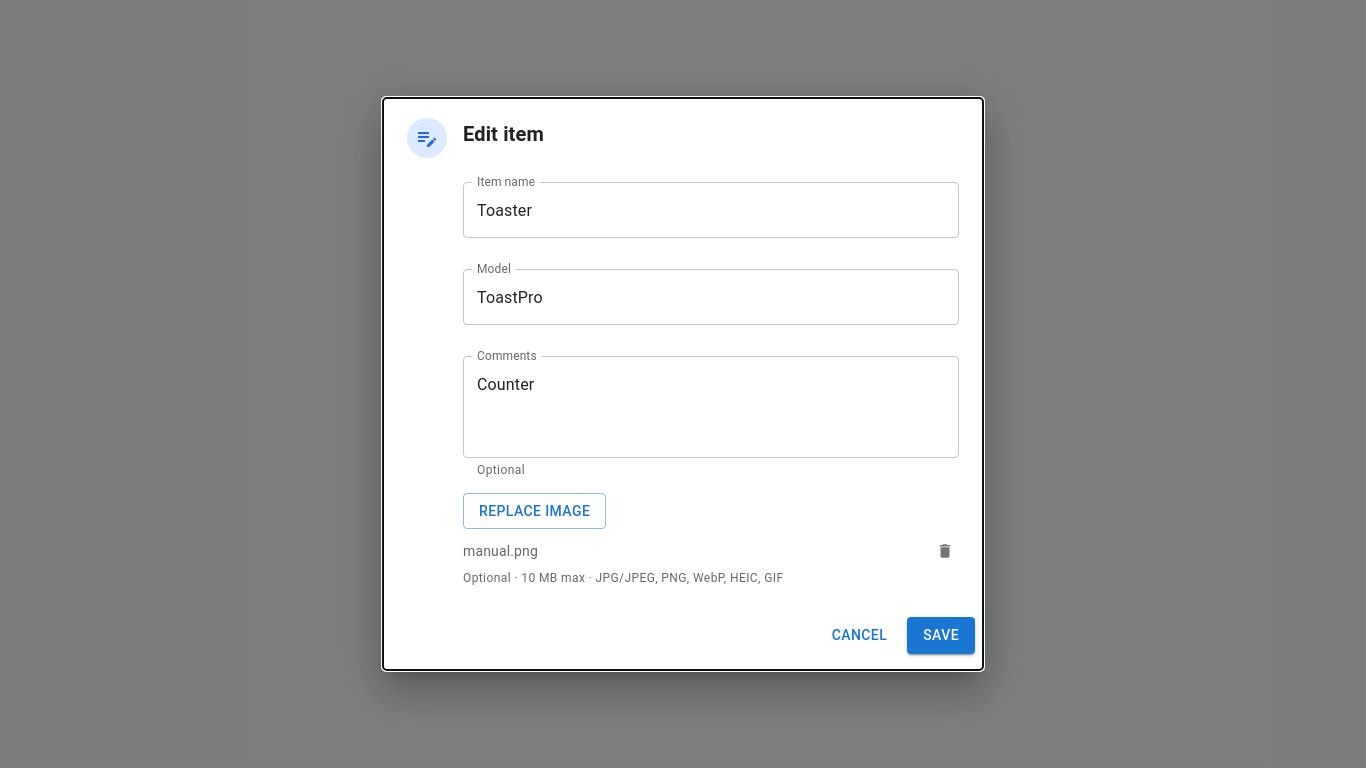
Test: EditItemDialog › blocks save when required attribute is empty
Clear the field labelled "Model": (711, 297) x1=463 y1=269 x2=959 y2=325
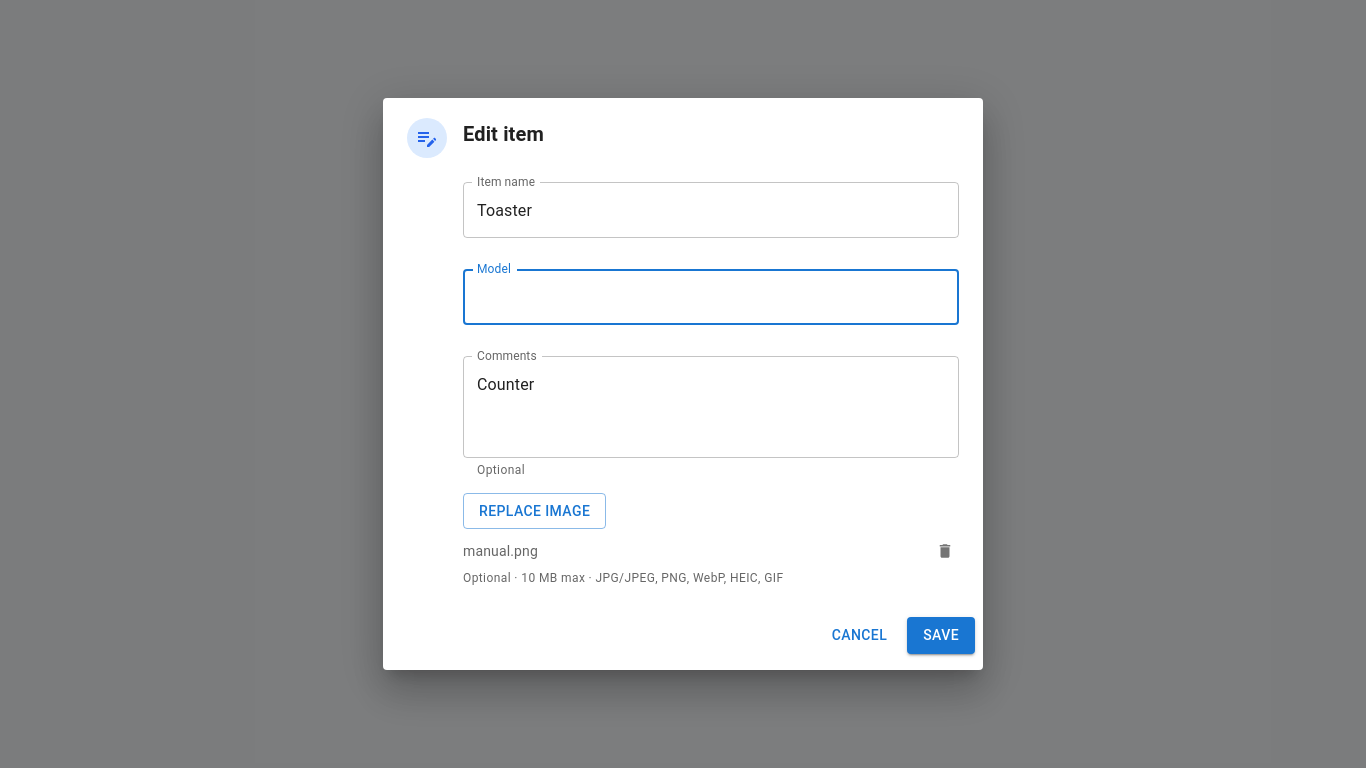
Click the button "Save": (941, 636) x1=907 y1=617 x2=975 y2=654
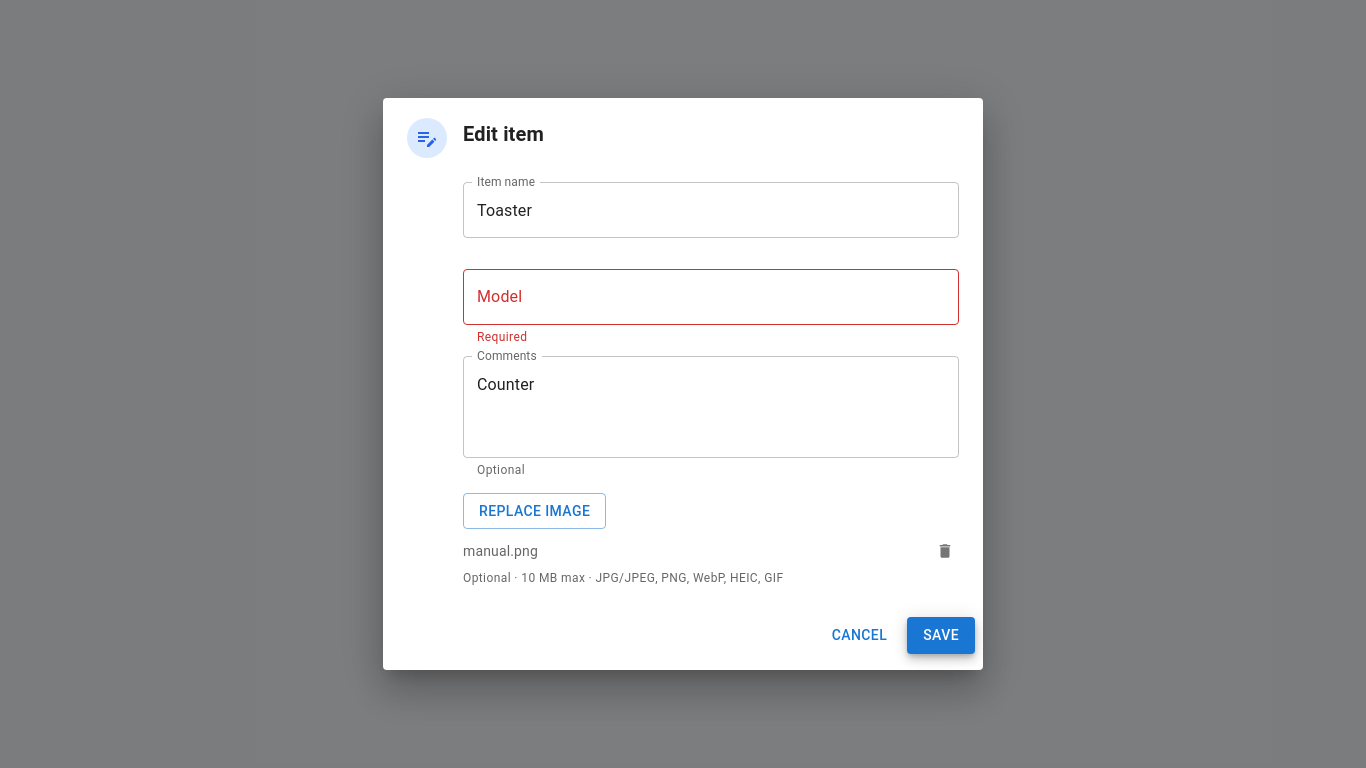
Now the text "Required" is shown, box x1=477 y1=330 x2=527 y2=344
